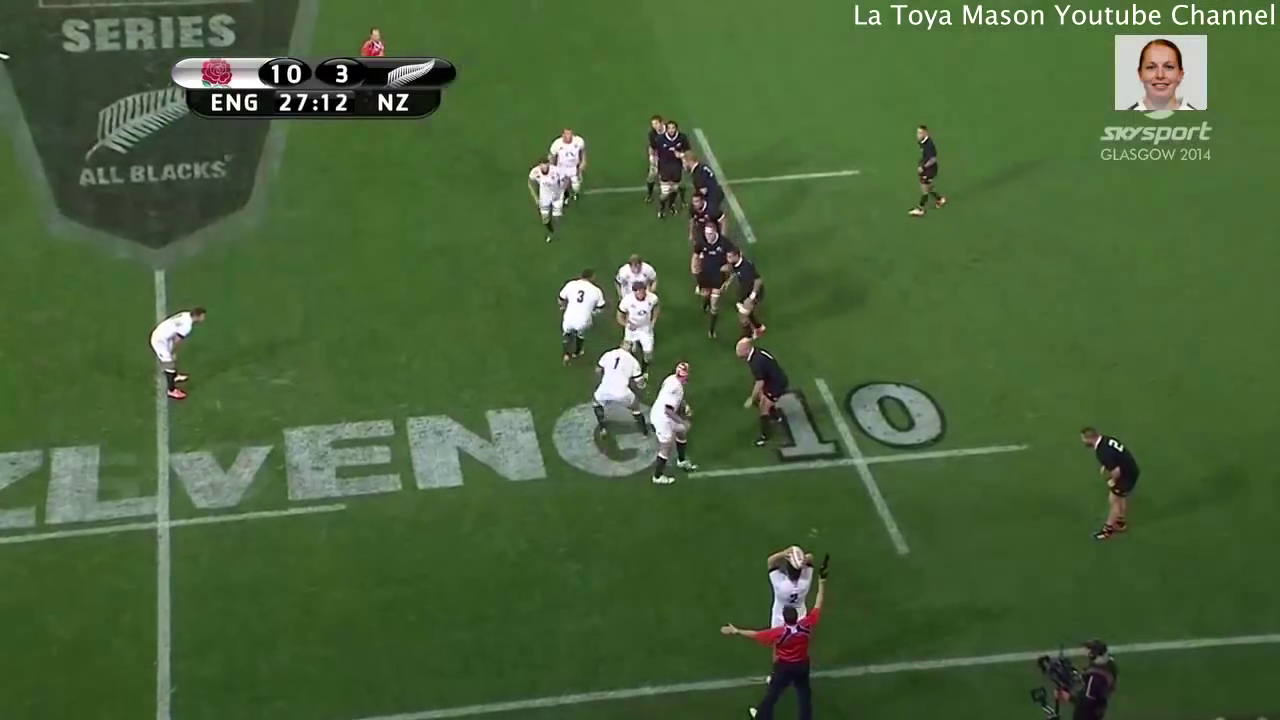10_metre: (670, 378, 1034, 560), (576, 123, 869, 254)
ball: (781, 540, 809, 572)
lineout: (499, 55, 876, 696)
player: (717, 604, 831, 720), (1069, 420, 1141, 543), (645, 358, 702, 488), (729, 338, 789, 449), (148, 304, 210, 407), (754, 538, 825, 624), (681, 226, 729, 351), (587, 342, 645, 440), (550, 264, 601, 372), (517, 158, 574, 247), (726, 251, 772, 346), (905, 120, 948, 218), (549, 126, 588, 201), (643, 111, 666, 208), (661, 120, 682, 221), (685, 156, 725, 202), (683, 194, 720, 228)
